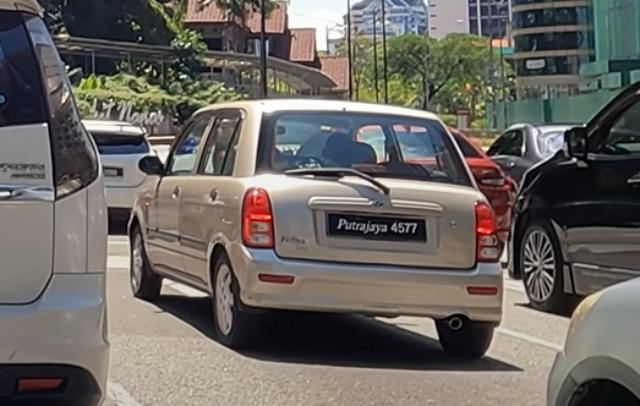License_Plate: (325, 212, 429, 243)
car: (127, 99, 511, 360)
